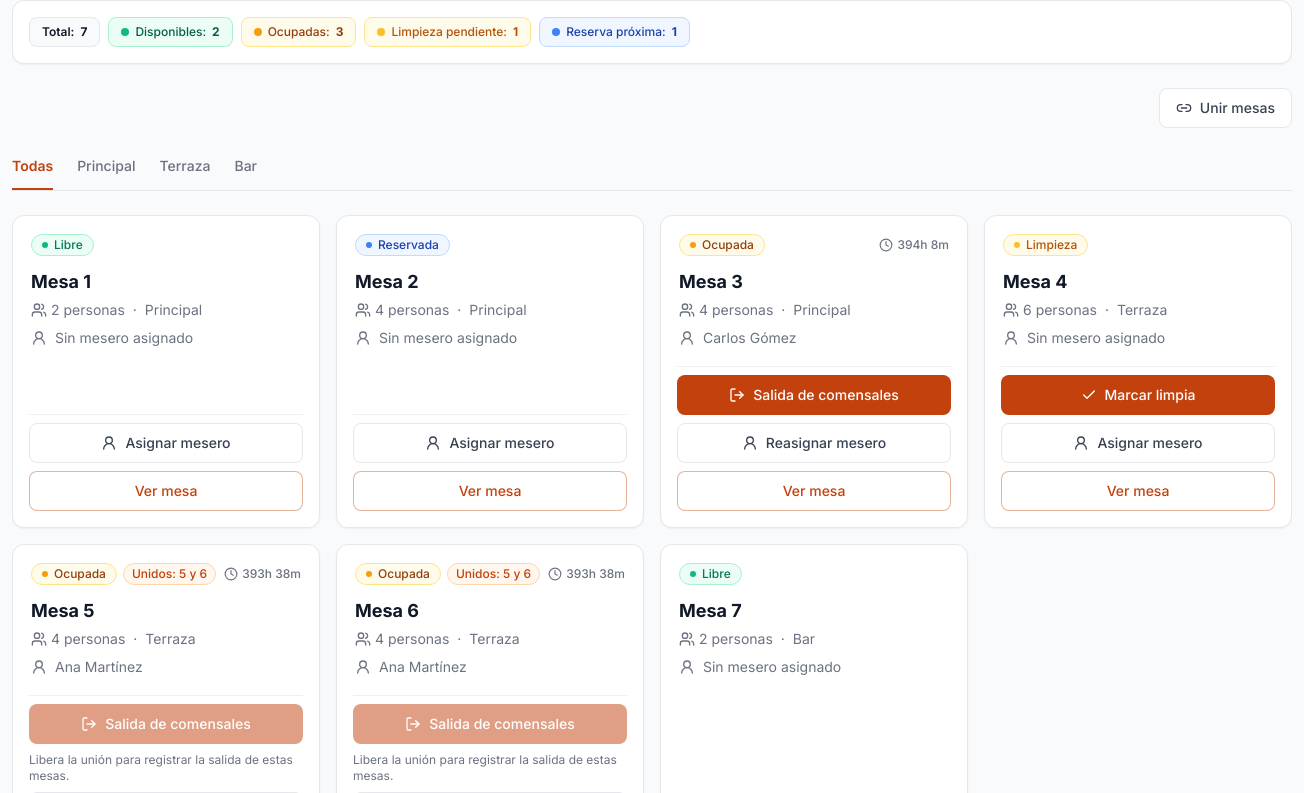
Test: PlanoSalaView Component › FE-005, RF-007, RF-023: marcar limpia actualiza el estado y los controles de la card
Expected: the text "Limpieza" is shown, [1003, 234, 1088, 256]
Click the button "Marcar limpia" at point(1138, 395), box [1001, 375, 1275, 415]
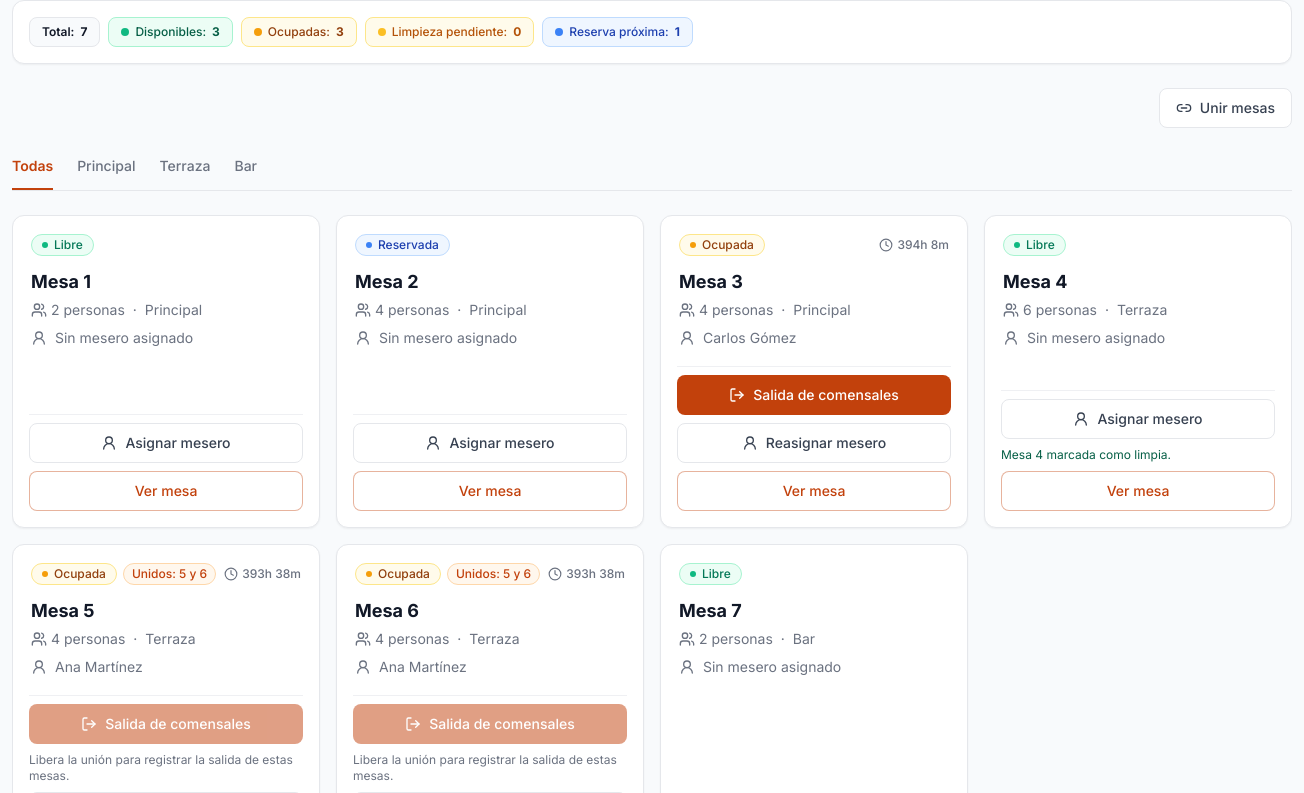
Result: the text "Libre" is shown at [1003, 234, 1066, 256]
Result: the button "Marcar limpia" is gone
